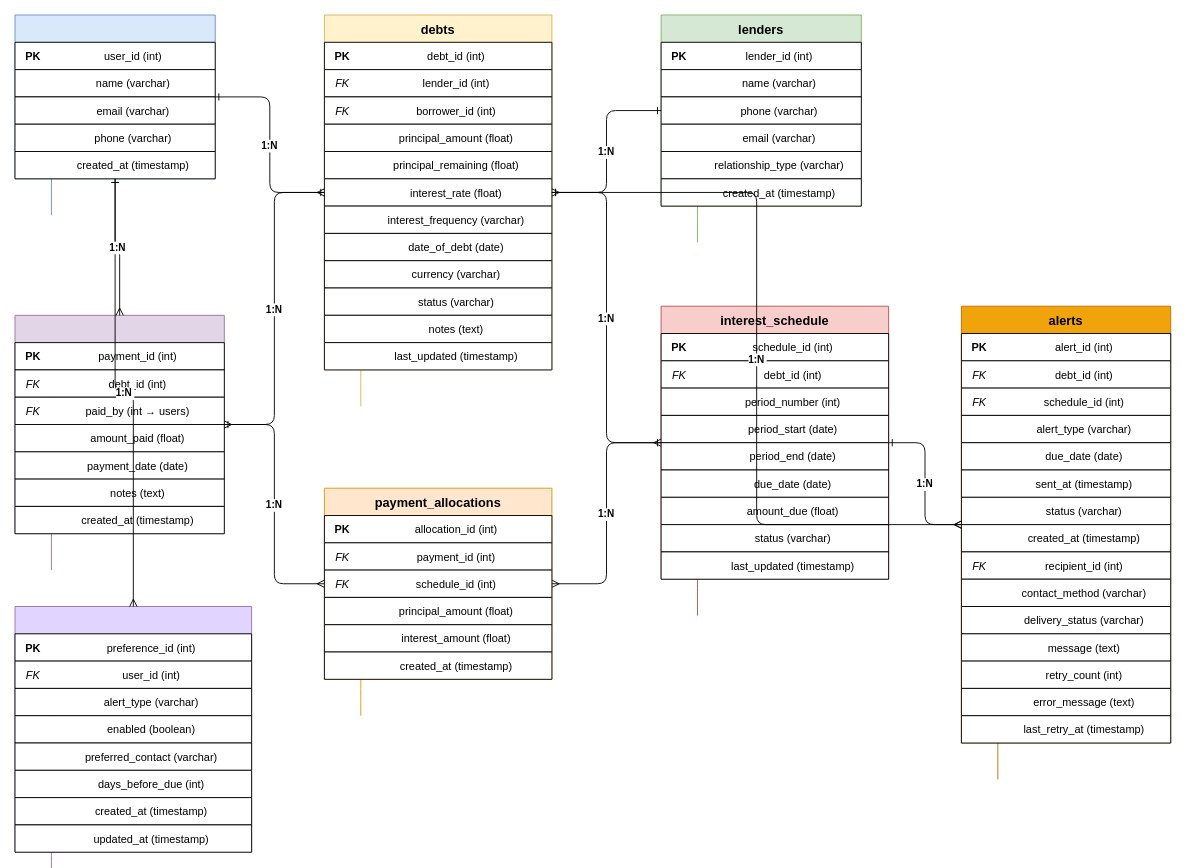
The diagram is 1186 pixels wide and 868 high, and some of its shapes have lost their labels. Each missing label, with the box of its shape:
notification_preferences: (14, 606, 252, 852)
payments: (14, 314, 224, 534)
users: (14, 14, 215, 179)
